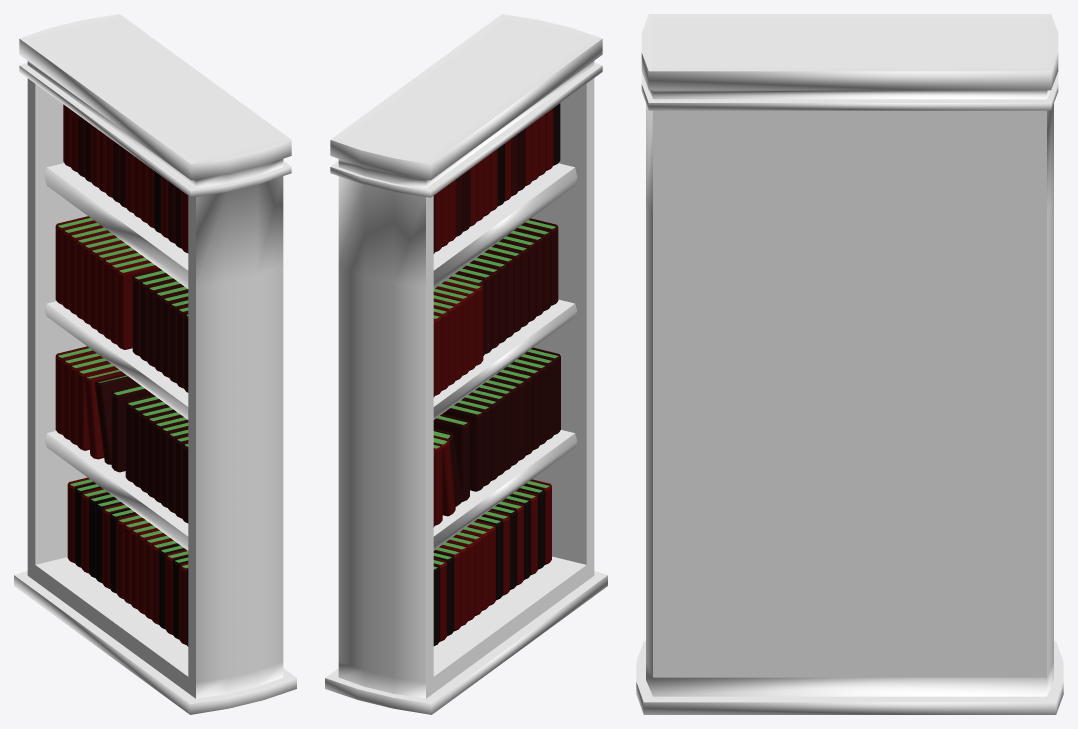
The model's file is Left3.fbx.
The picture shows the model from 3 angles, left to right: view 1: azimuth 30°, elevation 25°; view 2: azimuth 150°, elevation 25°; view 3: azimuth 270°, elevation 25°; orthographic projection. The views are drawn at different scales.
Visible parts, largest first — view 1: Book Shelf.008; view 2: Book Shelf.008; view 3: Book Shelf.008.
Part boxes in pixels (x1,y1,x2,y2): Book Shelf.008: (14,14,296,714); Book Shelf.008: (325,14,607,714); Book Shelf.008: (636,14,1063,714).
Bounding box in the file's own units: 381 × 1868 × 1127.
